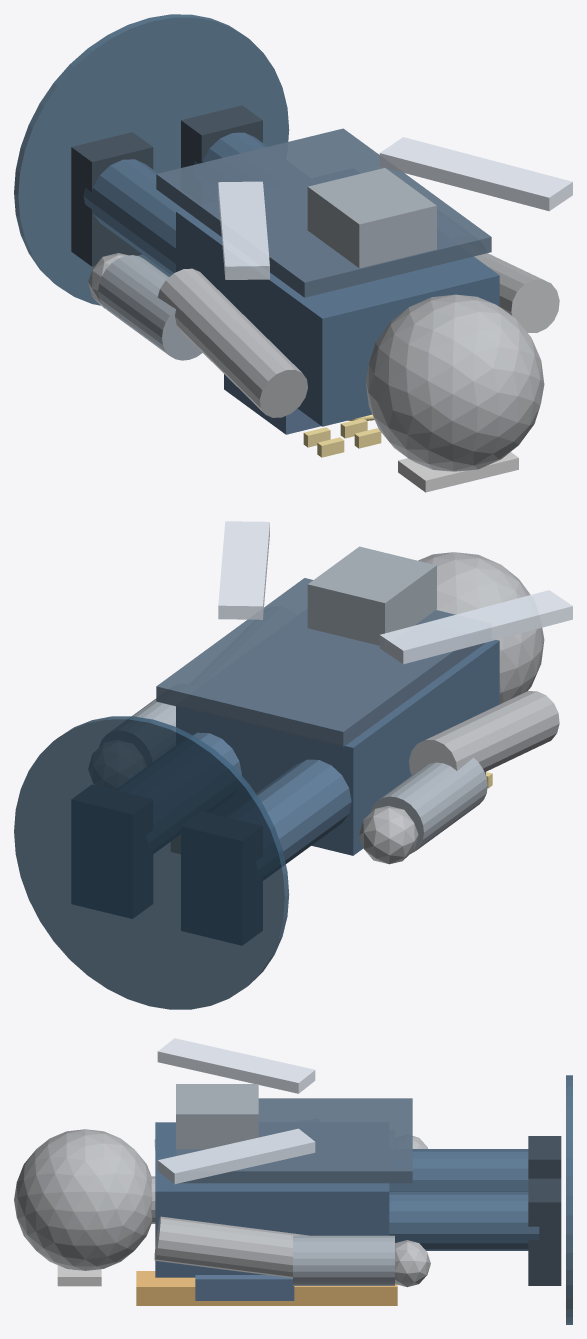
Rendered from SW_NPC_040_oda_canopyreel.glb.
3 renders of one model, top to bottom at view 1: azimuth 30°, elevation 25°; view 2: azimuth 150°, elevation 25°; view 3: azimuth 270°, elevation 25°, orthographic. The views are drawn at different scales.
Parts seen in each view (by area): view 1: round_base_plate, head, torso_uniform, storm_cloak, wingpack_core, left_upper_arm, right_wing_rig, left_leg, left_forearm_gauntlet, left_boot, left_wing_rig, right_upper_arm (+5 smaller); view 2: round_base_plate, storm_cloak, torso_uniform, wingpack_core, left_upper_arm, head, left_wing_rig, left_leg, left_forearm_gauntlet, right_wing_rig, left_hand, right_forearm_gauntlet (+1 smaller); view 3: head, torso_uniform, storm_cloak, right_leg, right_upper_arm, left_leg, right_forearm_gauntlet, wingpack_core, rank_sash, right_wing_rig, left_wing_rig, right_boot (+5 smaller).
Part boxes in pixels (x1,y1,x2,y2): round_base_plate: [14, 14, 289, 305]; head: [365, 294, 544, 471]; torso_uniform: [176, 209, 499, 426]; storm_cloak: [156, 128, 491, 297]; wingpack_core: [307, 168, 436, 268]; left_upper_arm: [157, 268, 307, 417]; right_wing_rig: [379, 137, 572, 211]; left_leg: [83, 159, 183, 274]; left_forearm_gauntlet: [98, 255, 202, 360]; left_boot: [71, 132, 153, 266]; left_wing_rig: [218, 181, 269, 279]; right_upper_arm: [474, 253, 559, 332]; round_base_plate: [14, 716, 289, 1009]; storm_cloak: [156, 578, 485, 746]; torso_uniform: [176, 640, 499, 855]; wingpack_core: [307, 546, 436, 645]; left_upper_arm: [409, 691, 559, 774]; head: [418, 552, 544, 703]; left_wing_rig: [379, 590, 572, 664]; left_leg: [256, 759, 351, 863]; left_forearm_gauntlet: [370, 757, 487, 853]; right_wing_rig: [218, 521, 269, 619]; left_hand: [359, 806, 418, 864]; right_forearm_gauntlet: [132, 698, 175, 726]; head: [14, 1129, 152, 1270]; torso_uniform: [155, 1122, 389, 1277]; storm_cloak: [176, 1098, 412, 1183]; right_leg: [389, 1191, 539, 1250]; right_upper_arm: [154, 1216, 308, 1278]; left_leg: [389, 1149, 528, 1191]; right_forearm_gauntlet: [293, 1235, 394, 1285]; wingpack_core: [176, 1084, 258, 1149]; rank_sash: [136, 1271, 397, 1305]; right_wing_rig: [157, 1128, 315, 1184]; left_wing_rig: [157, 1038, 315, 1093]; right_boot: [528, 1178, 561, 1285].
Bounding box in the file's own units: 1.16 × 0.9072 × 2.03.
